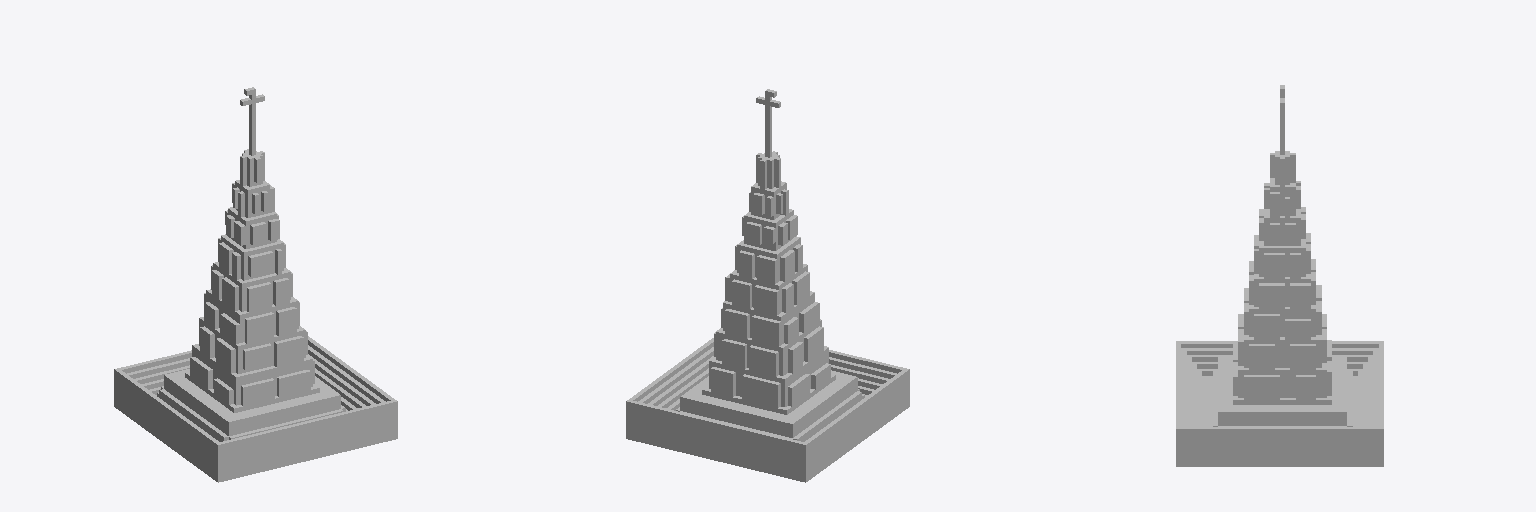
File: aison_Demo skyscraper.vox.obj
The picture shows the model from 3 angles: view 1: azimuth 30°, elevation 25°; view 2: azimuth 150°, elevation 25°; view 3: azimuth 270°, elevation 25°; orthographic projection.
Visible parts, largest first — view 1: object 1; view 2: object 1; view 3: object 1.
Boxes of the visible parts, x1=… form: object 1: x1=114, y1=87, x2=397, y2=482; object 1: x1=626, y1=89, x2=909, y2=482; object 1: x1=1176, y1=85, x2=1383, y2=466.
Size of the model in its own units: 4 by 7.1 by 4.